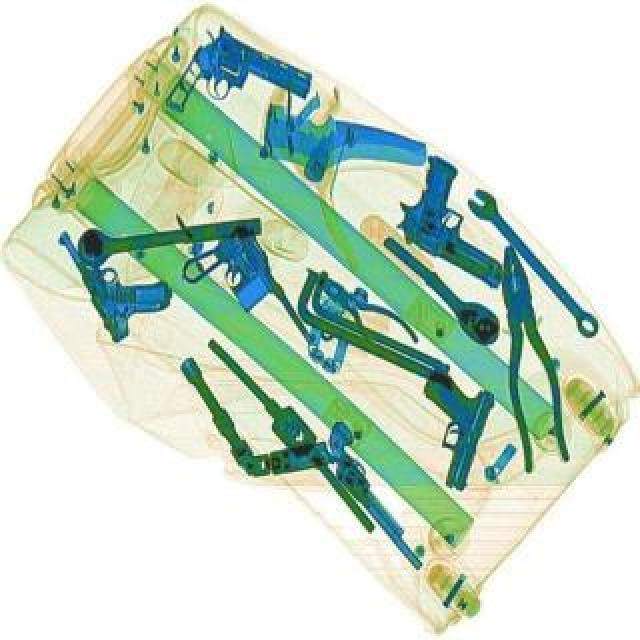gun: (380, 150, 544, 290), (172, 224, 320, 378), (306, 416, 446, 572), (160, 22, 320, 158), (54, 204, 182, 344), (394, 366, 498, 490)
scissors: (460, 184, 608, 344)
wrench: (484, 238, 574, 474), (290, 256, 422, 364)
